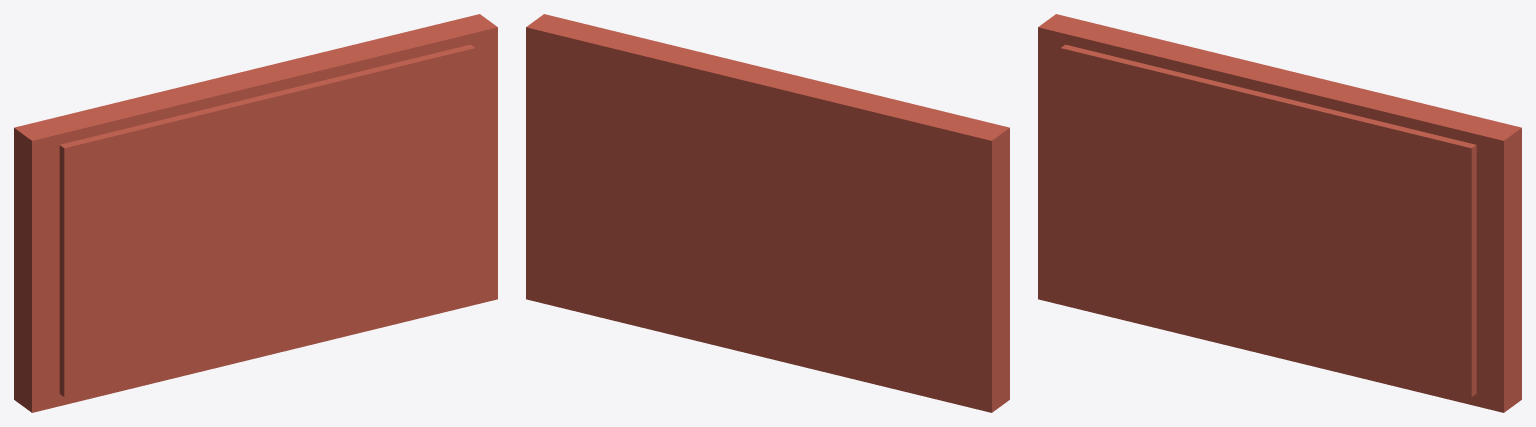
3 renders of one model, left to right at view 1: azimuth 30°, elevation 25°; view 2: azimuth 150°, elevation 25°; view 3: azimuth 330°, elevation 25°, orthographic.
Parts seen in each view (by area): view 1: TV; view 2: TV; view 3: TV.
Part boxes in pixels (x1,y1,x2,y2): TV: [14, 14, 497, 412]; TV: [526, 14, 1009, 412]; TV: [1038, 14, 1521, 412].
Size of the model in its own units: 199 by 111 by 16.92.
